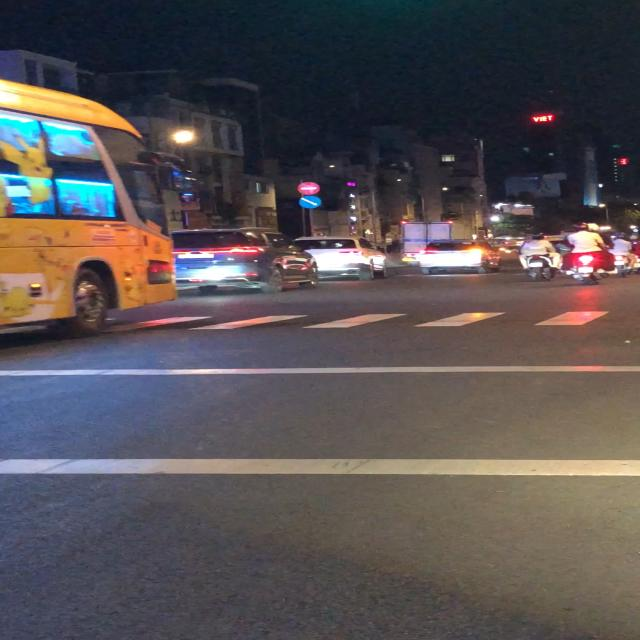Bien bao cam di nguoc chieu: (296, 182, 322, 196)
Bien bao huong phai di vong chuong ngai vat: (298, 195, 324, 209)
